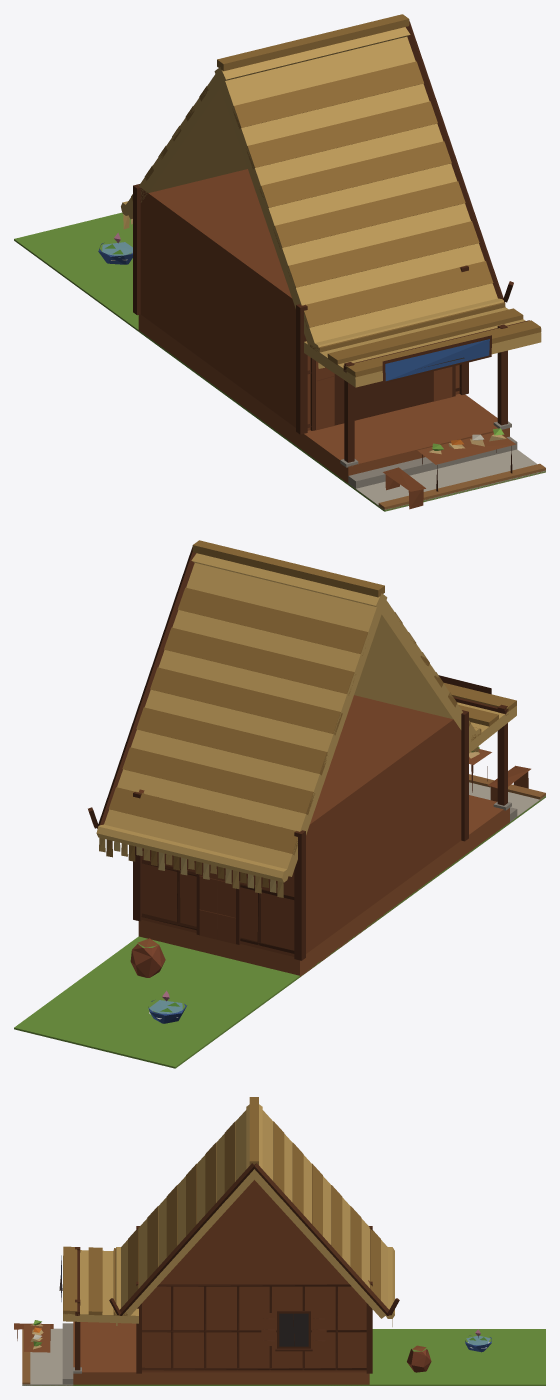
File: bay1_right.glb
3 renders of one model, top to bottom at view 1: azimuth 30°, elevation 25°; view 2: azimuth 150°, elevation 25°; view 3: azimuth 270°, elevation 25°, orthographic. The views are drawn at different scales.
Parts seen in each view (by area): view 1: body; view 2: body; view 3: body, windows.
Boxes of the visible parts, x1=… form: body: x1=14, y1=14, x2=545, y2=511; body: x1=14, y1=540, x2=545, y2=1068; body: x1=14, y1=1097, x2=545, y2=1385; windows: x1=279, y1=1313, x2=308, y2=1346.
Bounding box in the file's own units: 4.86 × 7.81 × 16.15.
